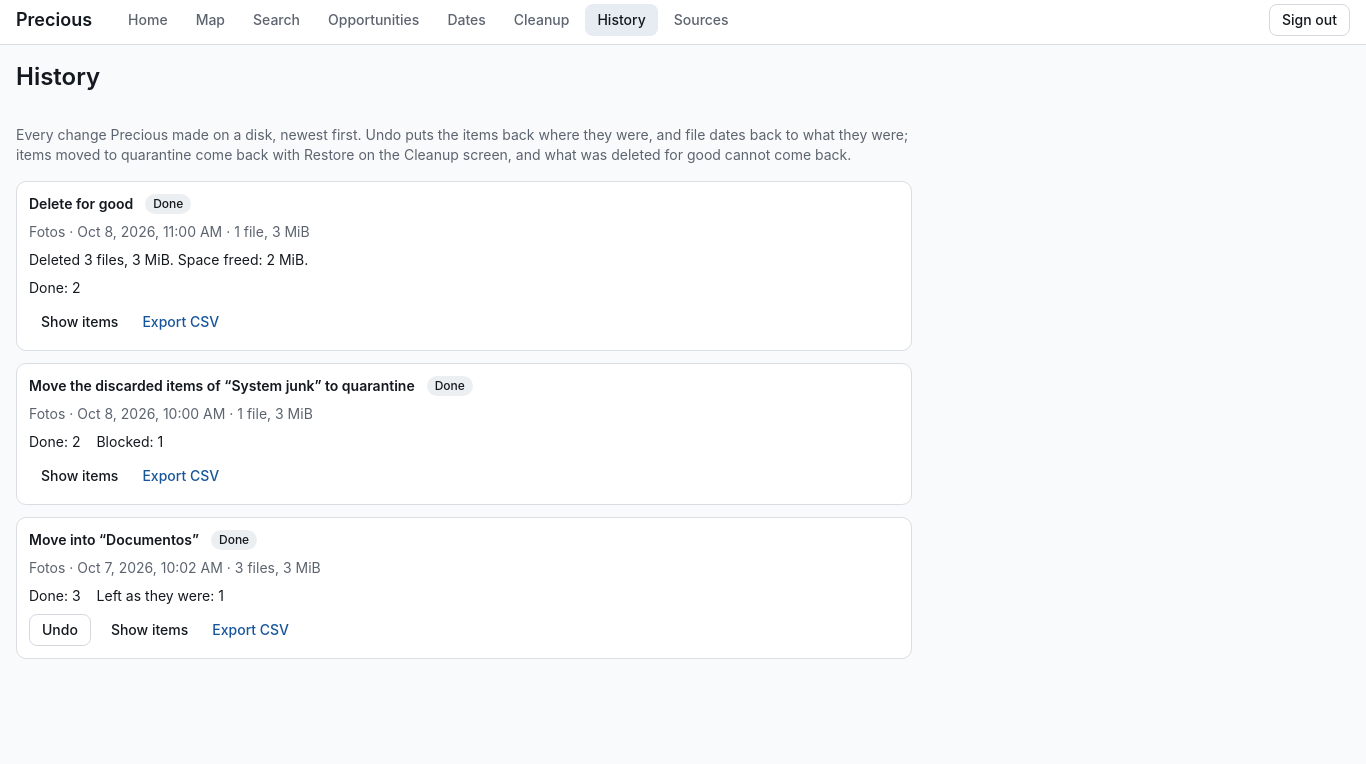
Test case: History › offers no Undo for a cleanup or a purge, names them, and exports every action as CSV
This screenshot has width=1366, height=764.
Expected: the element "Move the discarded items of “System junk” to quarantine" is shown, [16,363,912,505]
Expected: the list items read "Done: 2", "Blocked: 1", in this order, [29,432,80,452]; [96,432,163,452]
Click the button "Show items" below "Blocked: 1" at (80, 476), box [29,460,130,492]
(page scrolled)
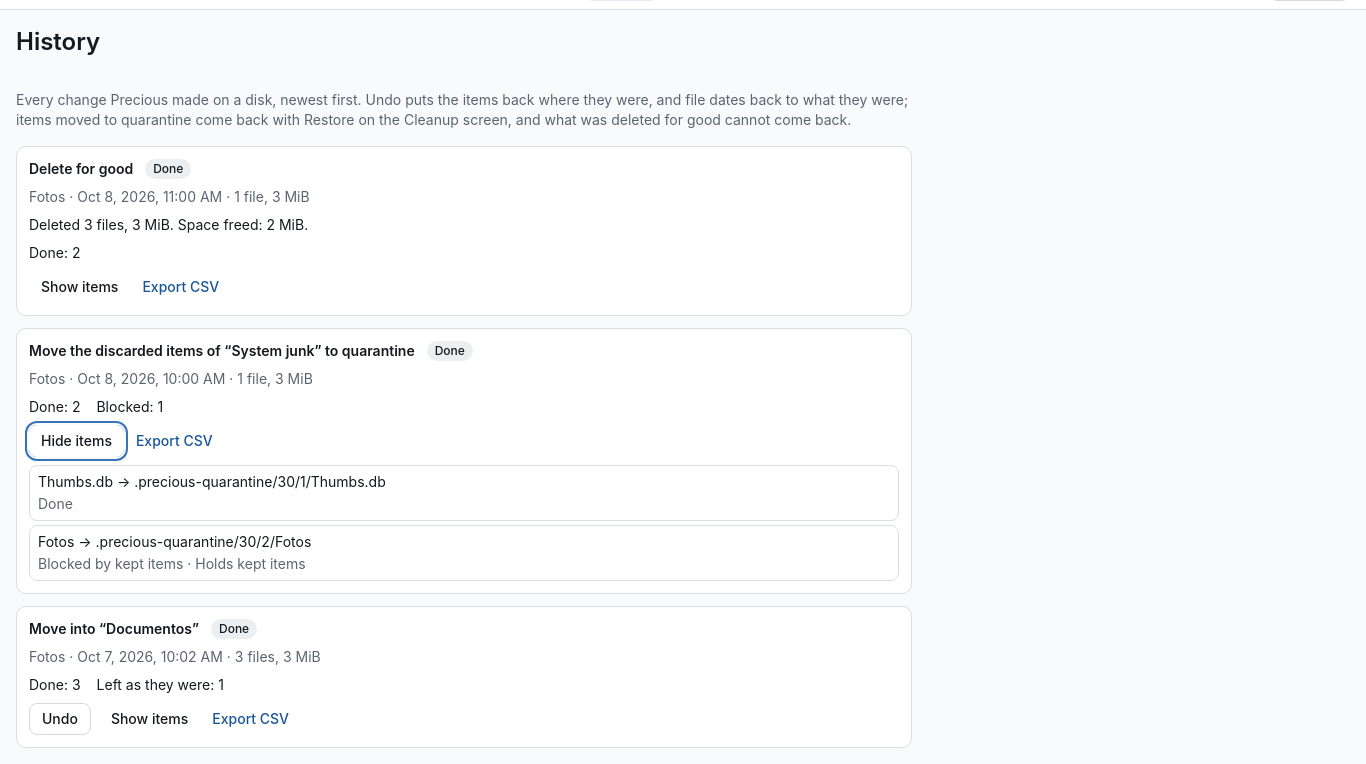
Expected: the text "Deleted 3 files, 3 MiB. Space freed: 2 MiB." is shown, [29,216,308,233]
Expected: the text "Fotos → .precious-quarantine/30/2/Fotos" is shown, [38,533,311,550]
Expected: the text "Blocked by kept items · Holds kept items" is shown, [38,555,306,572]
